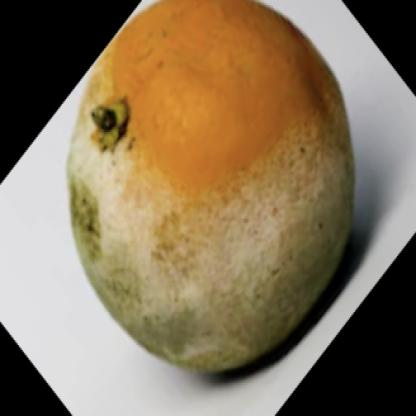rotten: (69, 2, 356, 381)
